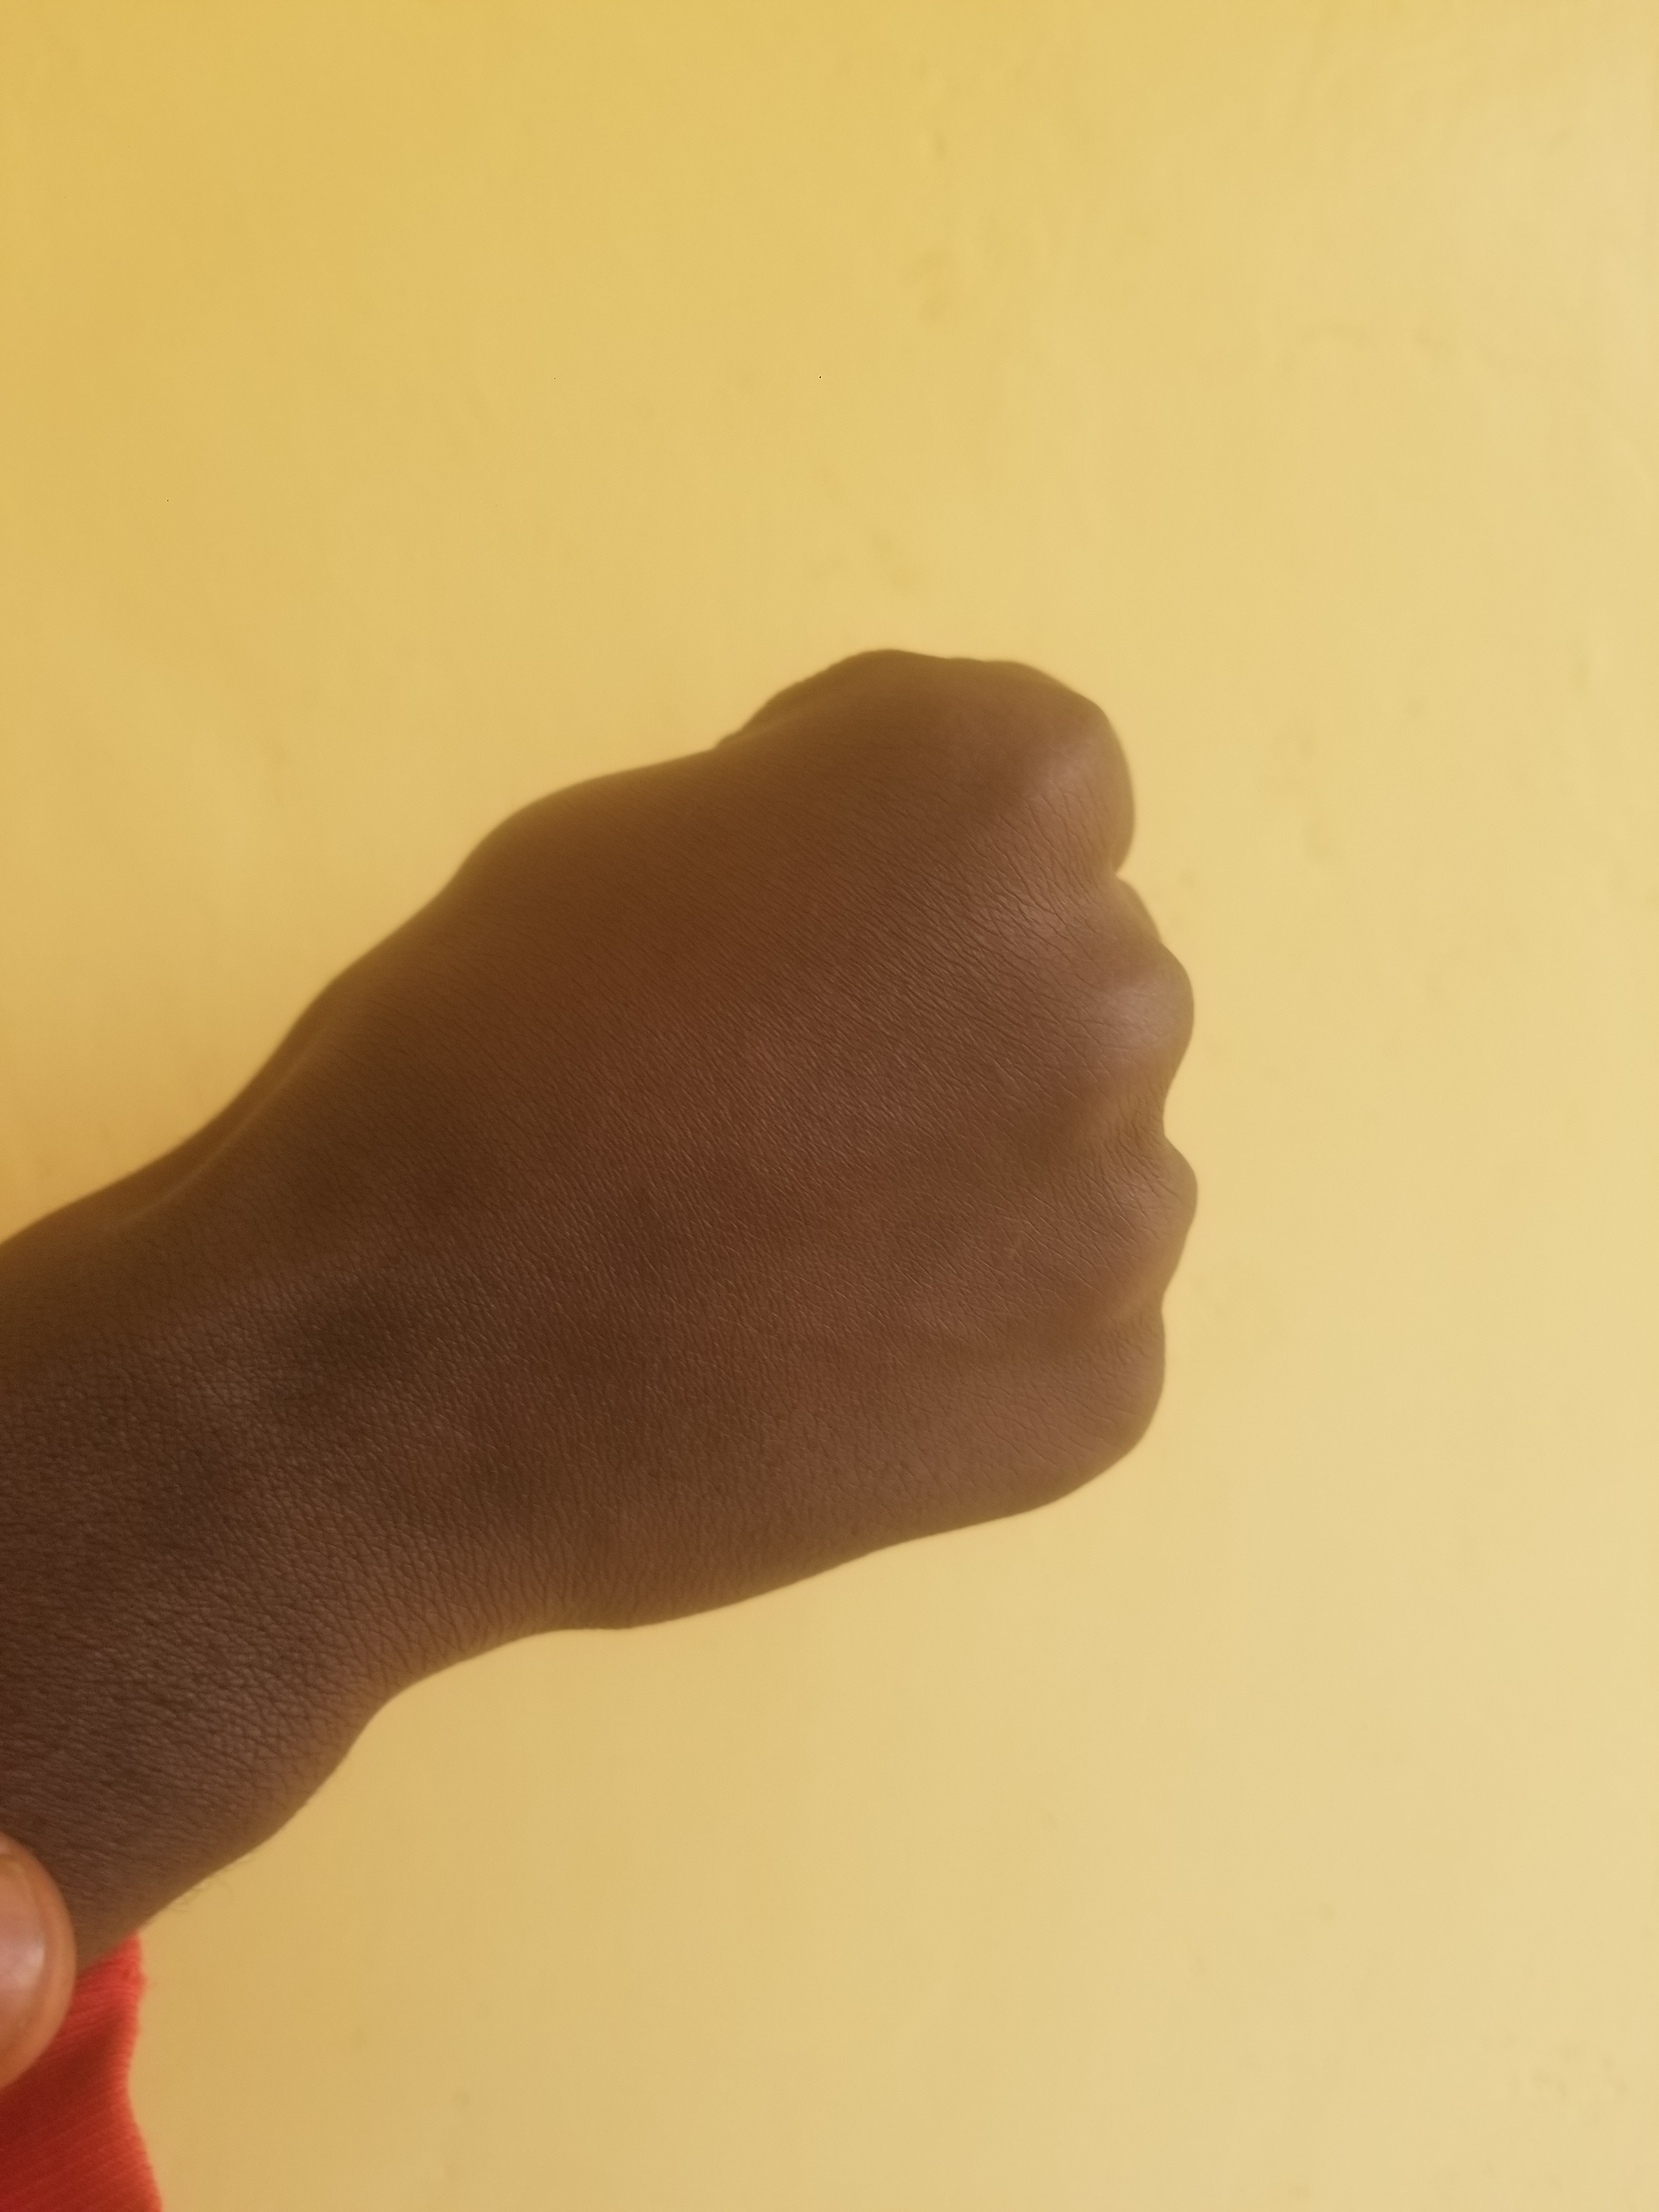fist: (84, 528, 1495, 1738)
